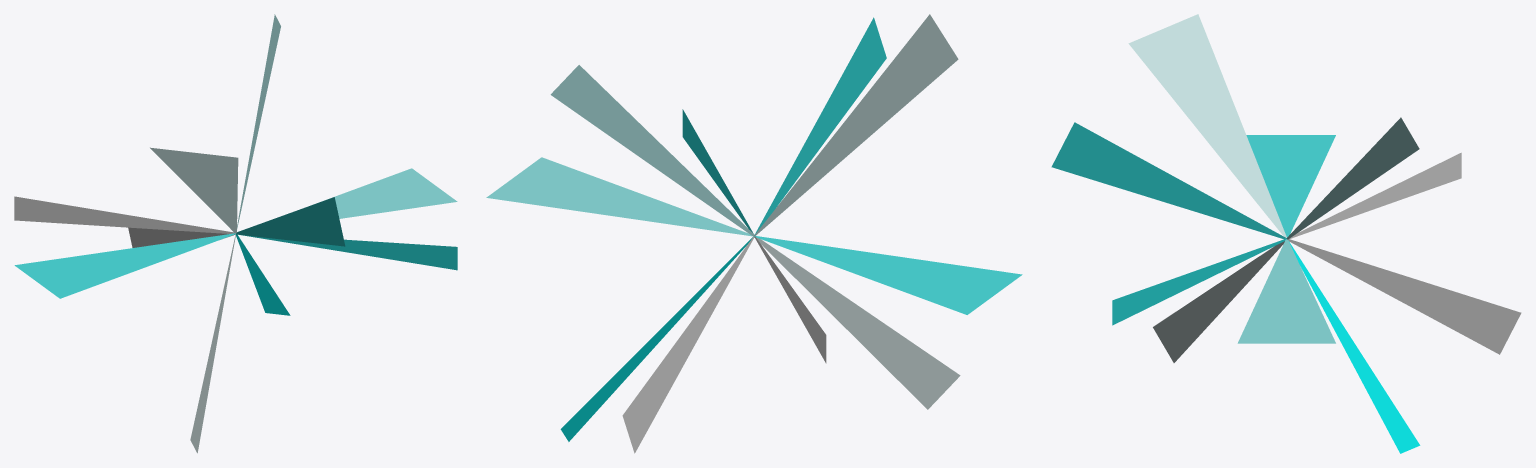
The model's file is SM_Flat_LightPlane_Cluster.fbx.
The picture shows the model from 3 angles, left to right: view 1: azimuth 30°, elevation 25°; view 2: azimuth 150°, elevation 25°; view 3: azimuth 270°, elevation 25°; orthographic projection. The views are drawn at different scales.
Visible parts, largest first — view 1: SM_Flat_LightPlane_Cluster; view 2: SM_Flat_LightPlane_Cluster; view 3: SM_Flat_LightPlane_Cluster.
Boxes of the visible parts, x1,y1,x2,y2 form: SM_Flat_LightPlane_Cluster: (14,14,457,453); SM_Flat_LightPlane_Cluster: (486,14,1022,453); SM_Flat_LightPlane_Cluster: (1051,14,1521,453).
Bounding box in the file's own units: 200 × 190 × 153.
